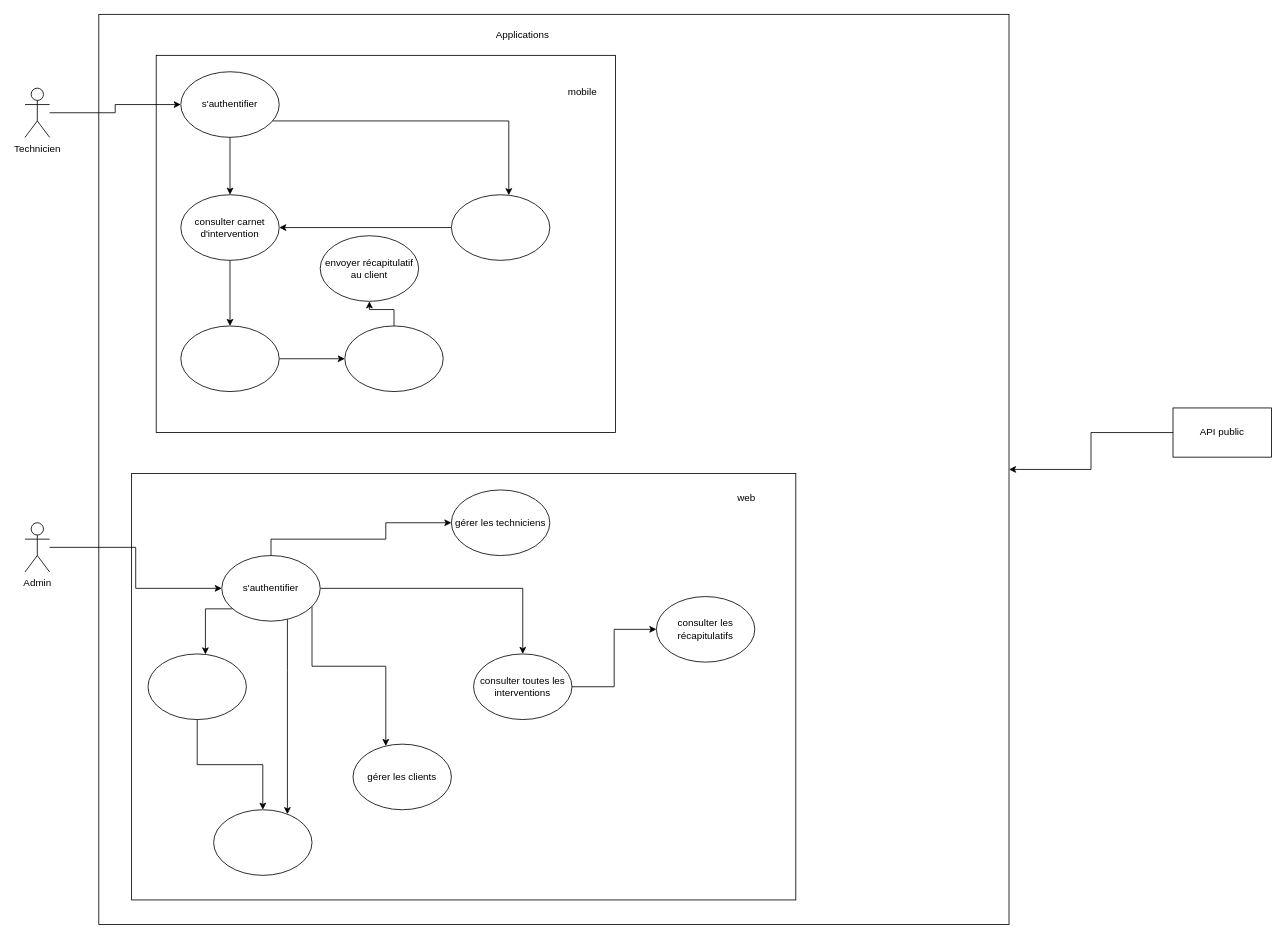
This 1286x939 diagram has some shape labels left out. The box of each missing label's shape, as (x1, y1, x2, y2) in pixels:
assigner une intervention: (213, 809, 312, 875)
commencer une intervention: (180, 325, 279, 392)
finaliser rapport: (344, 325, 443, 392)
planifier une intervention: (147, 653, 246, 720)
scanner QR code: (451, 194, 550, 260)
